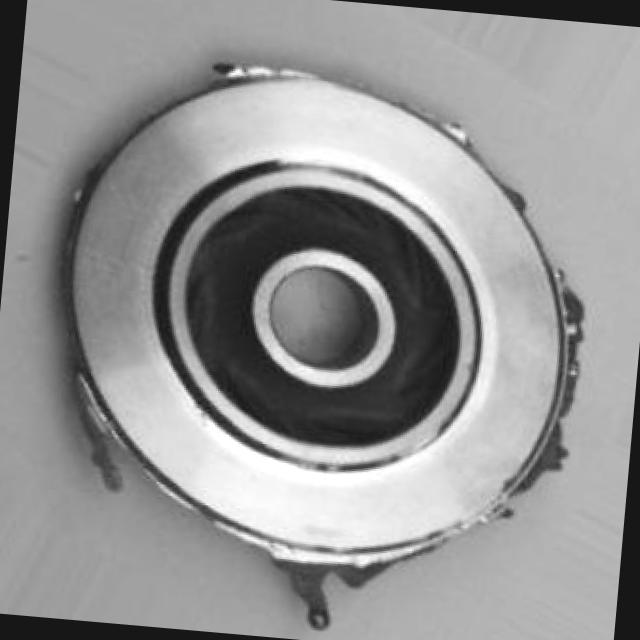Defect: (511, 428, 579, 481)
